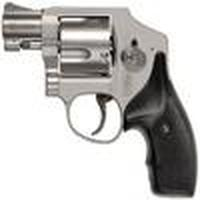gun: (3, 1, 200, 196)
